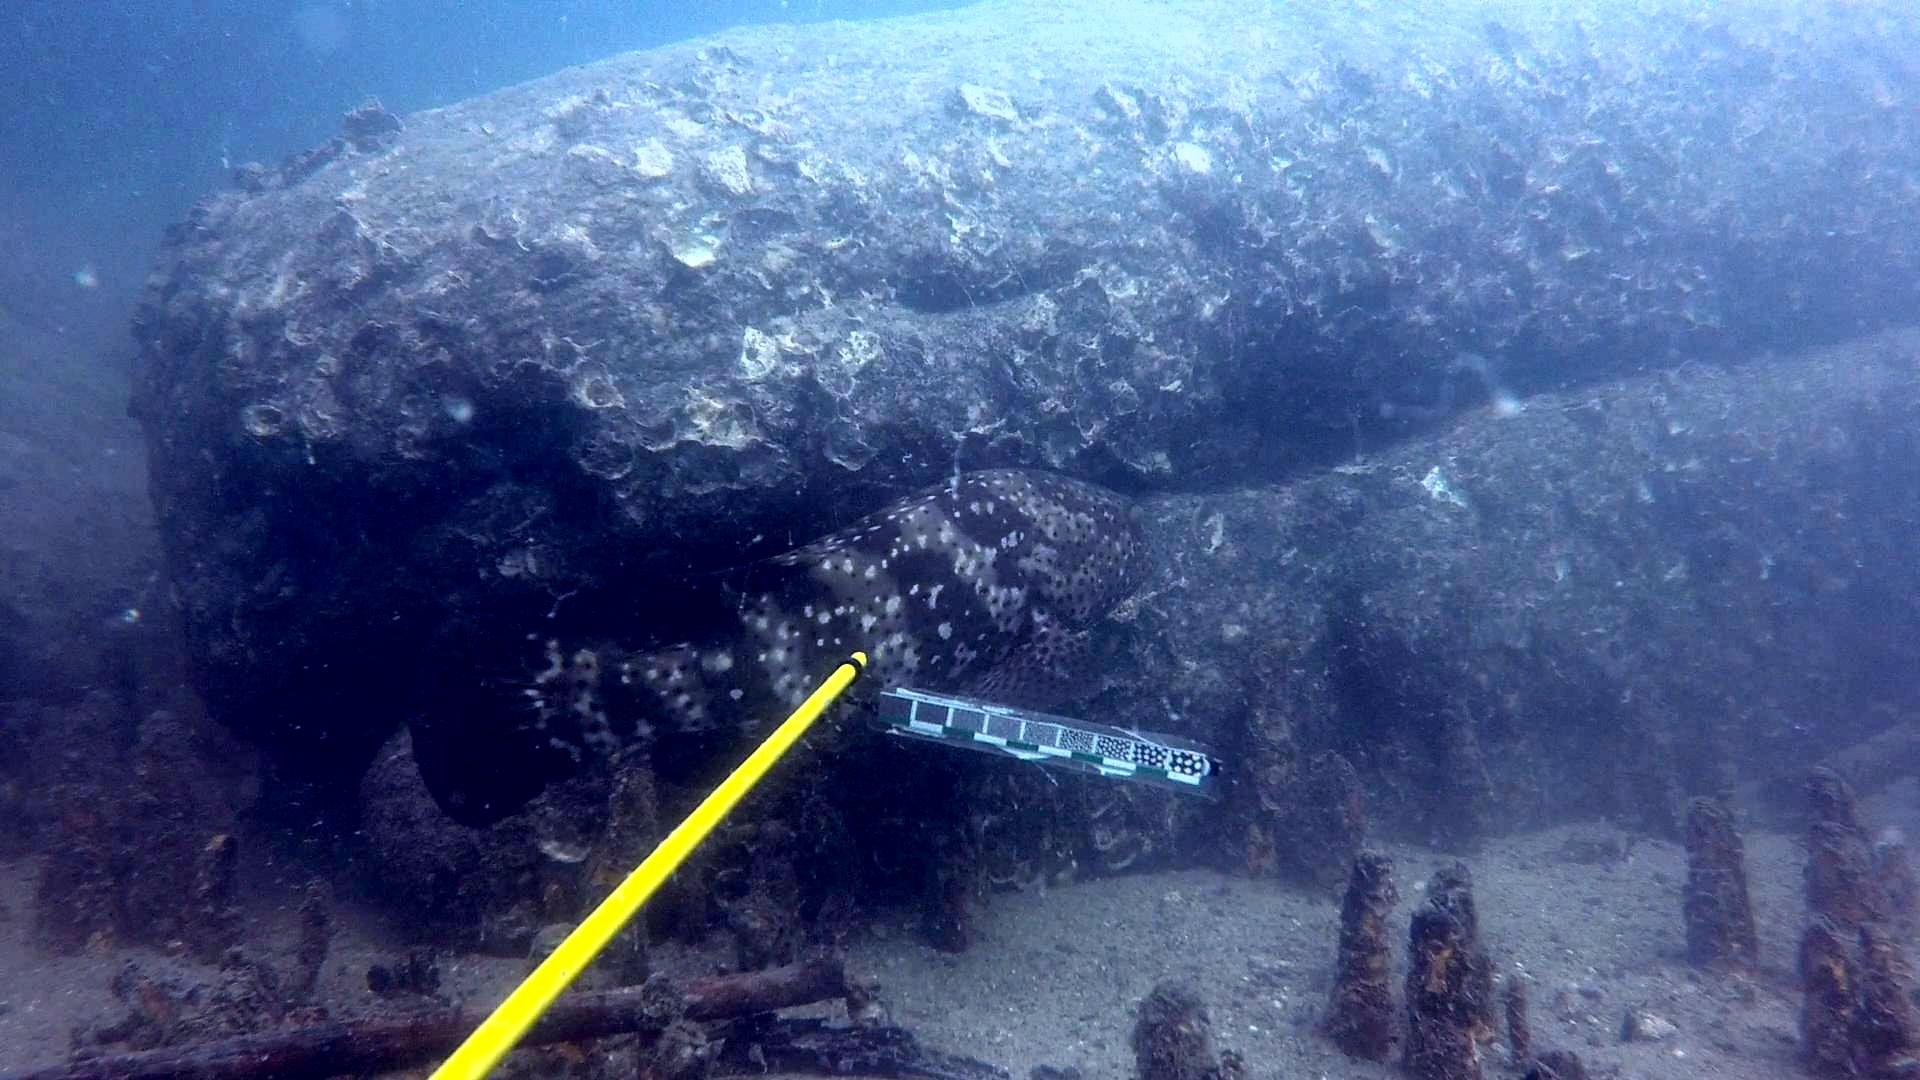epinephelus: (373, 460, 1180, 853)
